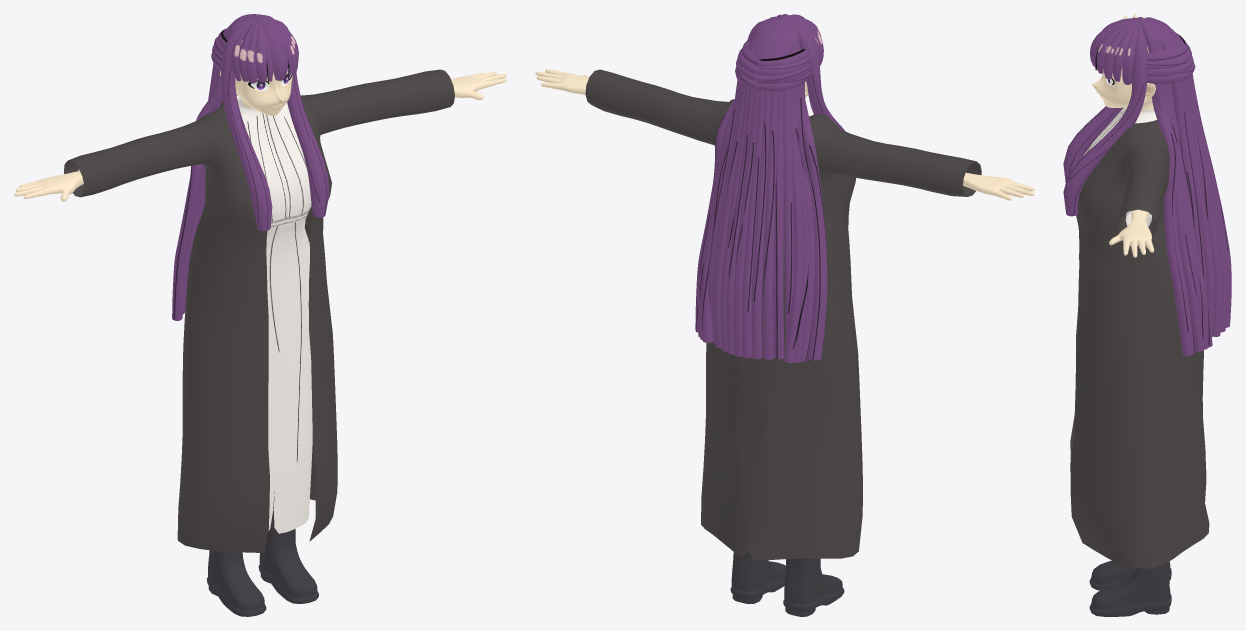
File: Fern 1K Texture.glb
3 views of the same model, side by side, from view 1: azimuth 30°, elevation 25°; view 2: azimuth 150°, elevation 25°; view 3: azimuth 270°, elevation 25° (orthographic).
Parts seen in each view (by area): view 1: Cube.002, hair, Vert; view 2: Cube.002, hair, Vert; view 3: Cube.002, hair, Vert.
Boxes of the visible parts, x1,y1,x2,y2 form: Cube.002: [64, 69, 454, 616]; hair: [172, 14, 329, 320]; Vert: [14, 40, 506, 201]; Cube.002: [585, 69, 981, 616]; hair: [695, 14, 844, 363]; Vert: [535, 69, 1034, 200]; Cube.002: [1070, 107, 1209, 616]; hair: [1063, 17, 1231, 355]; Vert: [1091, 14, 1155, 257].
Size of the model in its own units: 2.23 by 2.48 by 0.655.
Materials: 3 (3 with a texture image).
